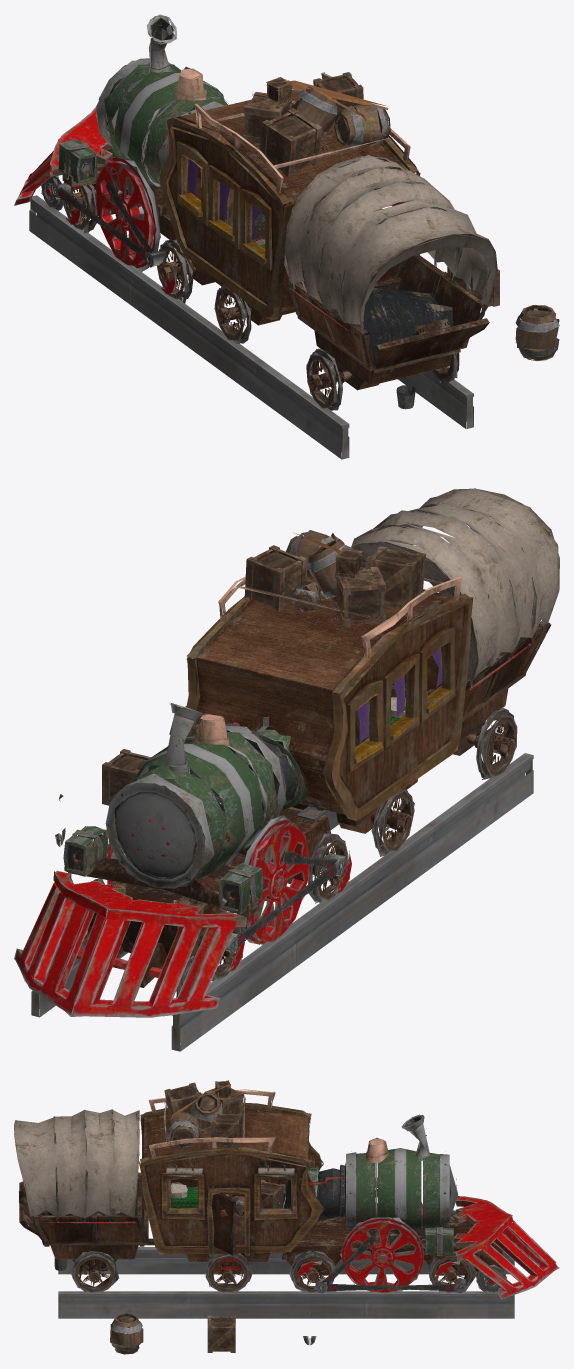
The model's file is loco.glb.
3 views of the same model, one above another, from view 1: azimuth 30°, elevation 25°; view 2: azimuth 150°, elevation 25°; view 3: azimuth 270°, elevation 25° (orthographic). The views are drawn at different scales.
Parts seen in each view (by area): view 1: Barrel_Train_3_0; view 2: Barrel_Train_3_0; view 3: Barrel_Train_3_0.
Part boxes in pixels (<box>): Barrel_Train_3_0: <box>14,14,559,459</box>; Barrel_Train_3_0: <box>14,488,559,1051</box>; Barrel_Train_3_0: <box>14,1080,559,1354</box>.
Size of the model in its own units: 152 by 143 by 342.
Materials: 3 (3 with a texture image).
